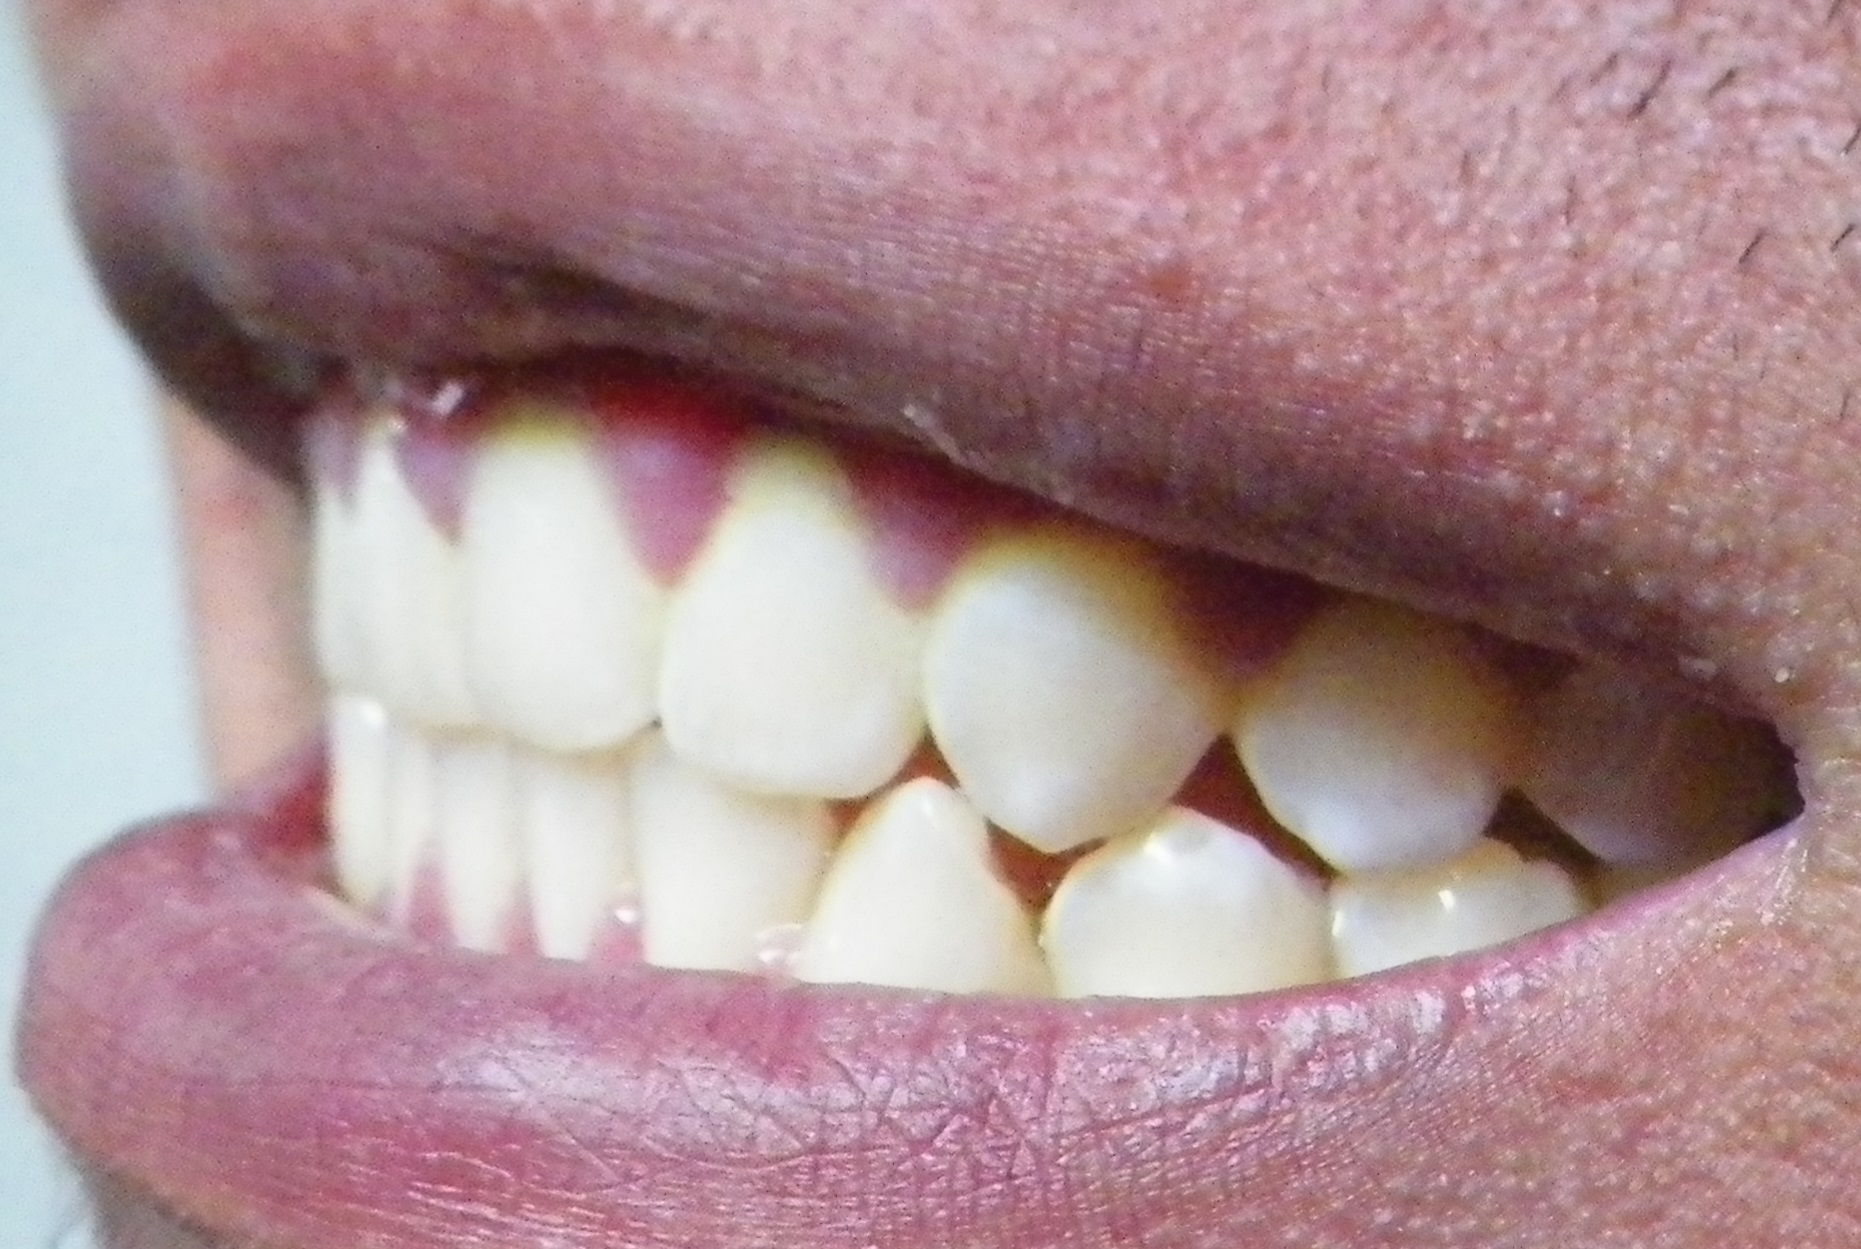boca: (298, 415, 1632, 997)
